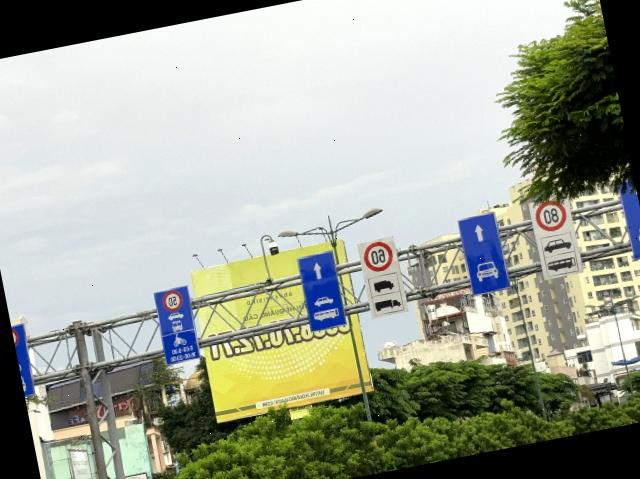toc-do-toi-da-cho-phep: (532, 198, 568, 233), (361, 239, 396, 275), (161, 288, 184, 312), (11, 326, 20, 347)
